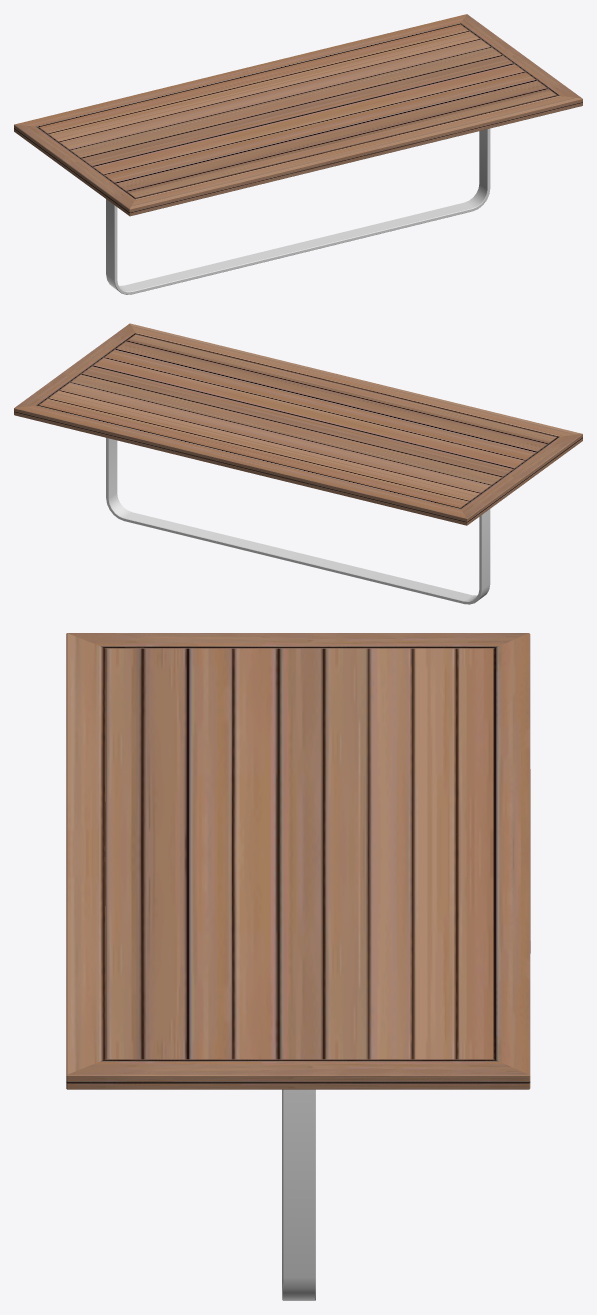
The model's file is Table-Wood.fbx.
3 views of the same model, one above another, from view 1: azimuth 30°, elevation 25°; view 2: azimuth 150°, elevation 25°; view 3: azimuth 270°, elevation 25° (orthographic). The views are drawn at different scales.
Parts seen in each view (by area): view 1: Cylinder.001; view 2: Cylinder.001; view 3: Cylinder.001.
Boxes of the visible parts, x1=… form: Cylinder.001: x1=14, y1=14, x2=582, y2=294; Cylinder.001: x1=14, y1=323, x2=582, y2=604; Cylinder.001: x1=66, y1=633, x2=530, y2=1300.
Bounding box in the file's own units: 319 × 93.16 × 141.
2 materials, 1 textured.
